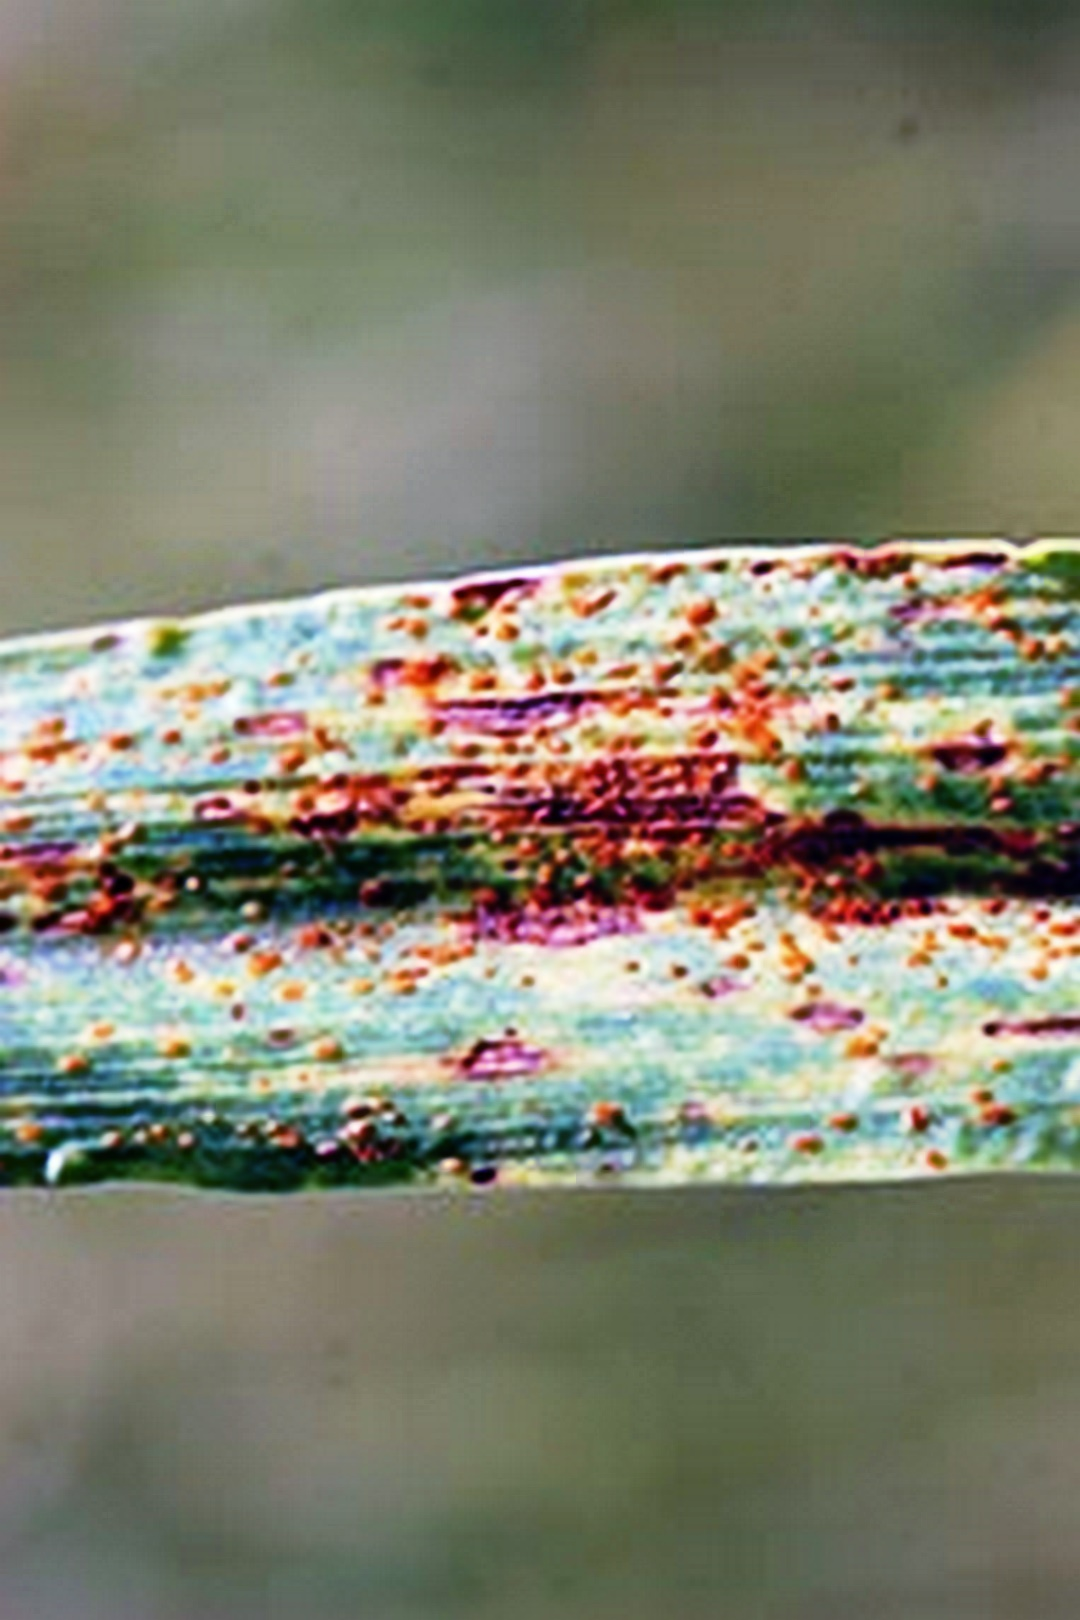Leaf Rust: (27, 529, 1051, 1176)
